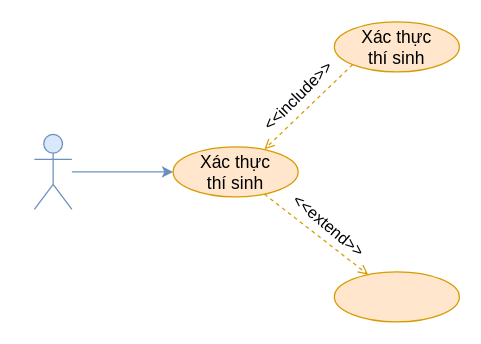
Image size: 481x344. Some labels were removed from this diagram. Each missing label, with the box of its shape:
Thí sinh: (33, 133, 72, 209)
Đăng xuất: (333, 271, 459, 322)
